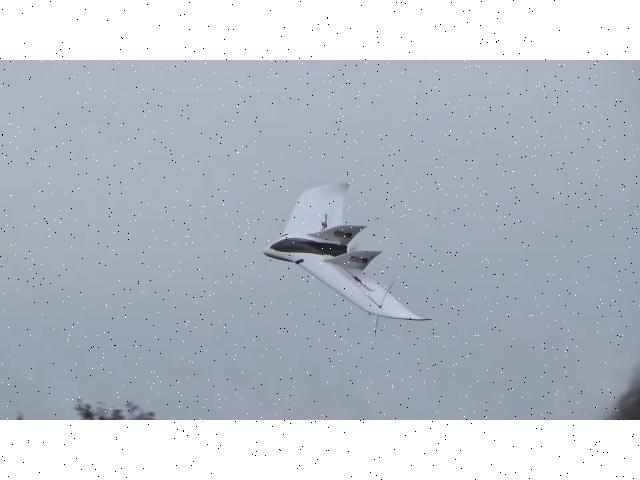Anti-Drone: (264, 182, 428, 320)
